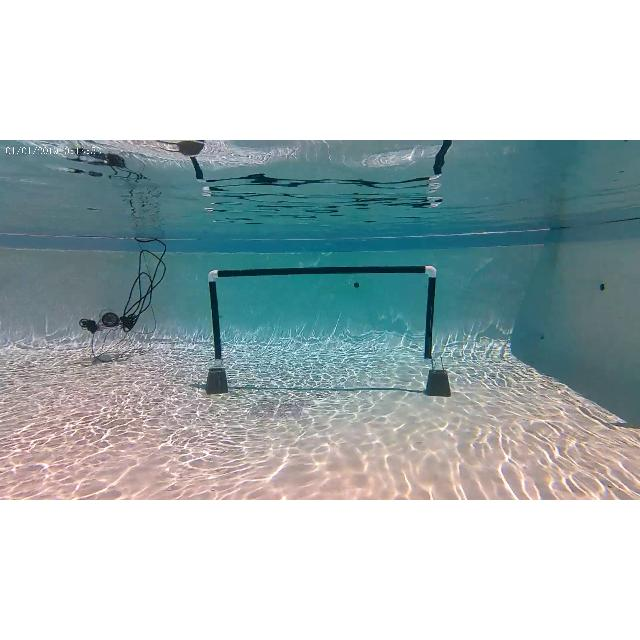prequal gate: (208, 266, 437, 368)
prequal gate leg l: (203, 265, 231, 391)
prequal gate leg r: (423, 264, 452, 398)
